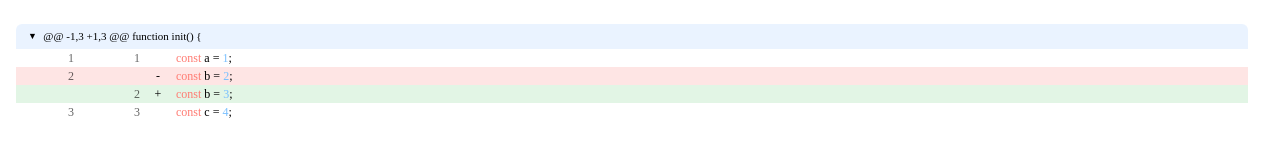
⌘F opens a find bar that counts matches case-insensitively
This screenshot has width=1265, height=160.
Expected: the button "▼ @@ -1,3 +1,3 @@ function init() {" is shown, [16,24,1248,49]
Type keys "{Meta>}f{/Meta}"
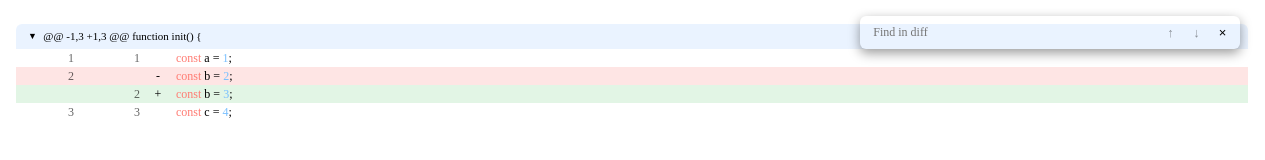
In the field labelled "Find in diff": (973, 32) [867,21,1080,44], type "CONST B"
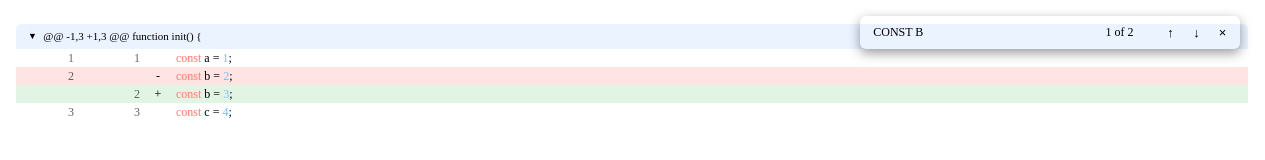
Result: the text "1 of 2" is shown at [1106,25,1134,39]
